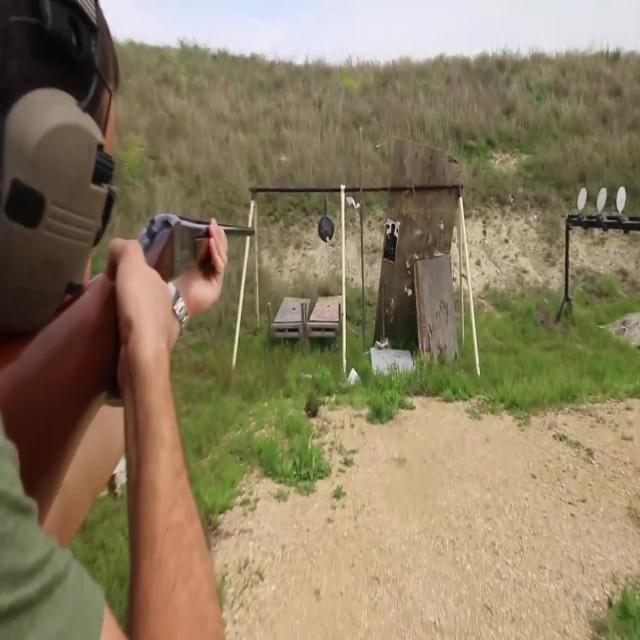Weapon: (0, 202, 278, 526)
